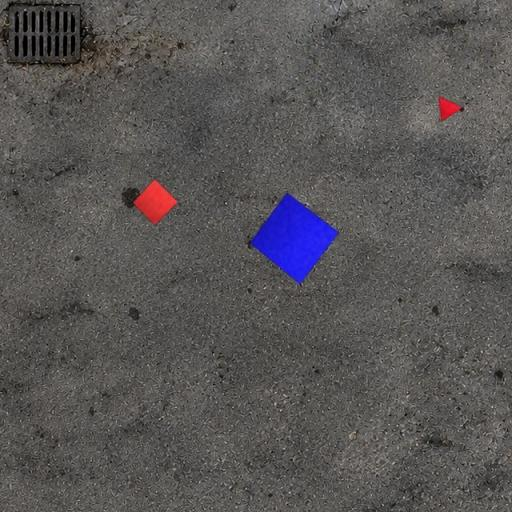BLUE_SQUARE: (249, 191, 340, 285)
RED_SQUARE: (132, 178, 178, 226)
